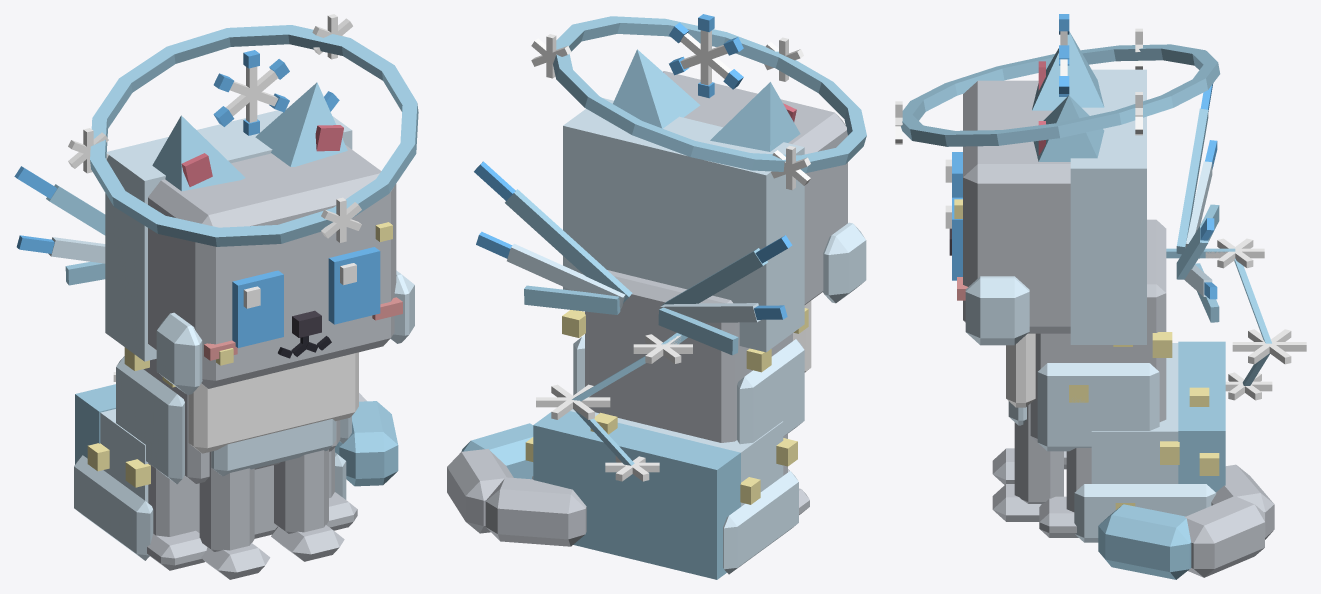
File: CatCafe_Cat_Blizzard_Sit.glb
3 views of the same model, side by side, from view 1: azimuth 30°, elevation 25°; view 2: azimuth 150°, elevation 25°; view 3: azimuth 270°, elevation 25° (orthographic). The views are drawn at different scales.
Parts seen in each view (by area): view 1: CatCafe_Cat_Blizzard_Sit_Head, CatCafe_Cat_Blizzard_Sit_Body, CatCafe_Cat_Blizzard_Sit_Glow, CatCafe_Cat_Blizzard_Sit_LegF2, CatCafe_Cat_Blizzard_Sit_LegF1, CatCafe_Cat_Blizzard_Sit_EarL, CatCafe_Cat_Blizzard_Sit_Tail, CatCafe_Cat_Blizzard_Sit_EarR, CatCafe_Cat_Blizzard_Sit_Eye1, CatCafe_Cat_Blizzard_Sit_Eye2, CatCafe_Cat_Blizzard_Sit_Prop2, CatCafe_Cat_Blizzard_Sit_Prop (+1 smaller); view 2: CatCafe_Cat_Blizzard_Sit_Body, CatCafe_Cat_Blizzard_Sit_Head, CatCafe_Cat_Blizzard_Sit_Glow, CatCafe_Cat_Blizzard_Sit_Prop2, CatCafe_Cat_Blizzard_Sit_Tail, CatCafe_Cat_Blizzard_Sit_Flakes_Glow, CatCafe_Cat_Blizzard_Sit_EarL, CatCafe_Cat_Blizzard_Sit_EarR, CatCafe_Cat_Blizzard_Sit_Prop, CatCafe_Cat_Blizzard_Sit_Wings_Glow; view 3: CatCafe_Cat_Blizzard_Sit_Head, CatCafe_Cat_Blizzard_Sit_Body, CatCafe_Cat_Blizzard_Sit_Tail, CatCafe_Cat_Blizzard_Sit_Glow, CatCafe_Cat_Blizzard_Sit_Prop2, CatCafe_Cat_Blizzard_Sit_LegF1, CatCafe_Cat_Blizzard_Sit_Flakes_Glow, CatCafe_Cat_Blizzard_Sit_EarR, CatCafe_Cat_Blizzard_Sit_EarL, CatCafe_Cat_Blizzard_Sit_Prop, CatCafe_Cat_Blizzard_Sit_Eye1, CatCafe_Cat_Blizzard_Sit_Wings_Glow (+2 smaller).
Part boxes in pixels (x1=…): CatCafe_Cat_Blizzard_Sit_Head: x1=105, y1=108, x2=414, y2=394; CatCafe_Cat_Blizzard_Sit_Body: x1=74, y1=347, x2=358, y2=570; CatCafe_Cat_Blizzard_Sit_Glow: x1=90, y1=25, x2=418, y2=246; CatCafe_Cat_Blizzard_Sit_LegF2: x1=199, y1=451, x2=270, y2=579; CatCafe_Cat_Blizzard_Sit_LegF1: x1=271, y1=449, x2=344, y2=561; CatCafe_Cat_Blizzard_Sit_EarL: x1=255, y1=82, x2=347, y2=166; CatCafe_Cat_Blizzard_Sit_Tail: x1=335, y1=393, x2=398, y2=486; CatCafe_Cat_Blizzard_Sit_EarR: x1=152, y1=115, x2=245, y2=191; CatCafe_Cat_Blizzard_Sit_Eye1: x1=328, y1=247, x2=380, y2=324; CatCafe_Cat_Blizzard_Sit_Eye2: x1=232, y1=270, x2=283, y2=347; CatCafe_Cat_Blizzard_Sit_Prop2: x1=46, y1=184, x2=105, y2=285; CatCafe_Cat_Blizzard_Sit_Prop: x1=68, y1=14, x2=361, y2=242; CatCafe_Cat_Blizzard_Sit_Body: x1=525, y1=270, x2=811, y2=579; CatCafe_Cat_Blizzard_Sit_Head: x1=563, y1=71, x2=866, y2=352; CatCafe_Cat_Blizzard_Sit_Glow: x1=553, y1=14, x2=866, y2=172; CatCafe_Cat_Blizzard_Sit_Prop2: x1=505, y1=189, x2=767, y2=355; CatCafe_Cat_Blizzard_Sit_Tail: x1=447, y1=423, x2=586, y2=546; CatCafe_Cat_Blizzard_Sit_Flakes_Glow: x1=536, y1=334, x2=692, y2=481; CatCafe_Cat_Blizzard_Sit_EarL: x1=613, y1=49, x2=700, y2=128; CatCafe_Cat_Blizzard_Sit_EarR: x1=710, y1=82, x2=800, y2=151; CatCafe_Cat_Blizzard_Sit_Prop: x1=531, y1=34, x2=810, y2=189; CatCafe_Cat_Blizzard_Sit_Wings_Glow: x1=474, y1=161, x2=792, y2=319; CatCafe_Cat_Blizzard_Sit_Head: x1=949, y1=69, x2=1146, y2=345; CatCafe_Cat_Blizzard_Sit_Body: x1=1006, y1=219, x2=1225, y2=542; CatCafe_Cat_Blizzard_Sit_Tail: x1=1098, y1=464, x2=1274, y2=579; CatCafe_Cat_Blizzard_Sit_Glow: x1=901, y1=14, x2=1220, y2=146; CatCafe_Cat_Blizzard_Sit_Prop2: x1=1166, y1=108, x2=1235, y2=322; CatCafe_Cat_Blizzard_Sit_LegF1: x1=992, y1=403, x2=1063, y2=521; CatCafe_Cat_Blizzard_Sit_Flakes_Glow: x1=1205, y1=238, x2=1306, y2=400; CatCafe_Cat_Blizzard_Sit_EarR: x1=1032, y1=31, x2=1104, y2=110; CatCafe_Cat_Blizzard_Sit_EarL: x1=1033, y1=95, x2=1104, y2=161; CatCafe_Cat_Blizzard_Sit_Prop: x1=895, y1=28, x2=1142, y2=144; CatCafe_Cat_Blizzard_Sit_Eye1: x1=945, y1=197, x2=962, y2=280; CatCafe_Cat_Blizzard_Sit_Wings_Glow: x1=1200, y1=83, x2=1217, y2=299.
Size of the model in its own units: 1.93 by 2.56 by 1.98.
1 material, 1 textured.
